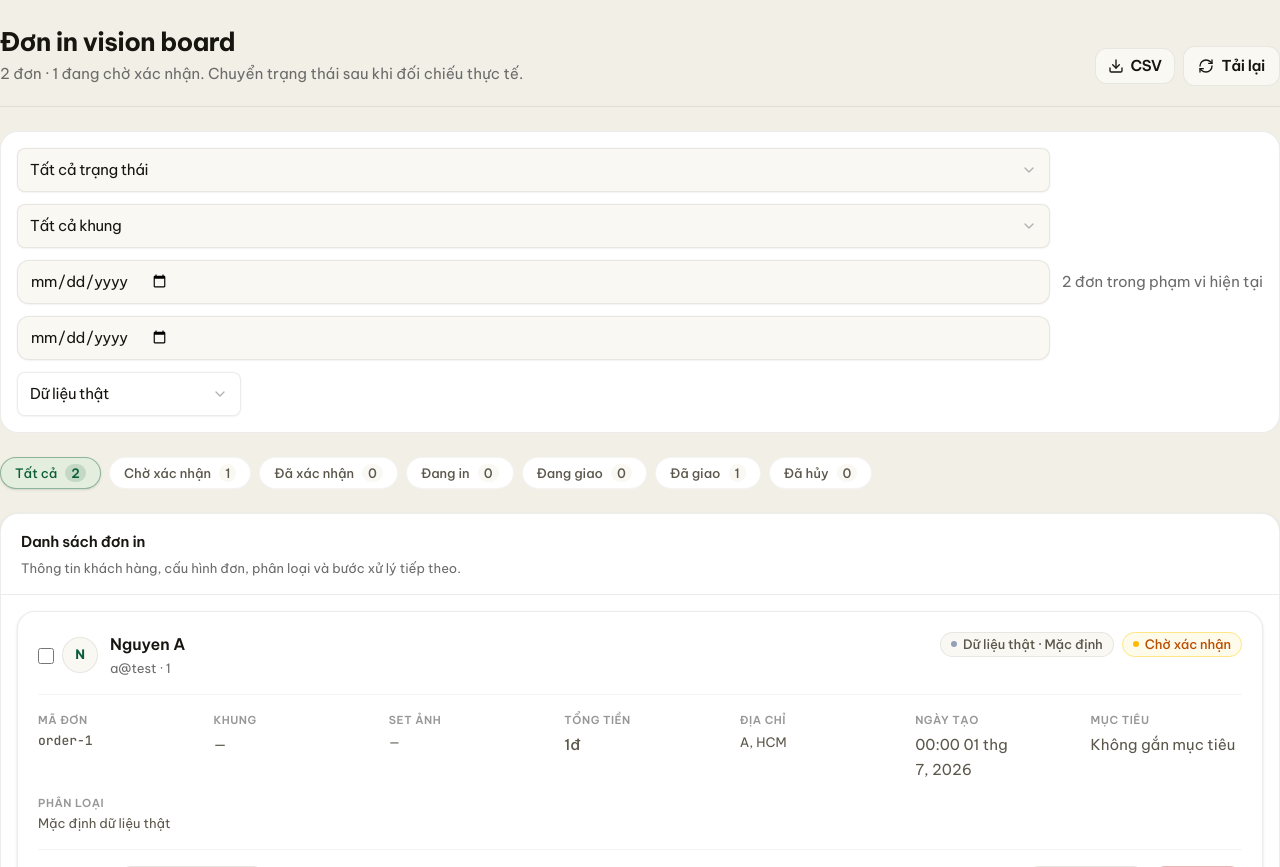
AdminOrdersPage server operational data › hides bulk controls until a row is selected
Expected: the text "Mặc định dữ liệu thật" is shown, x1=38 y1=814 x2=189 y2=833
Click the checkbox named "Chọn đơn order-1" at (46, 656), box x1=38 y1=648 x2=54 y2=664
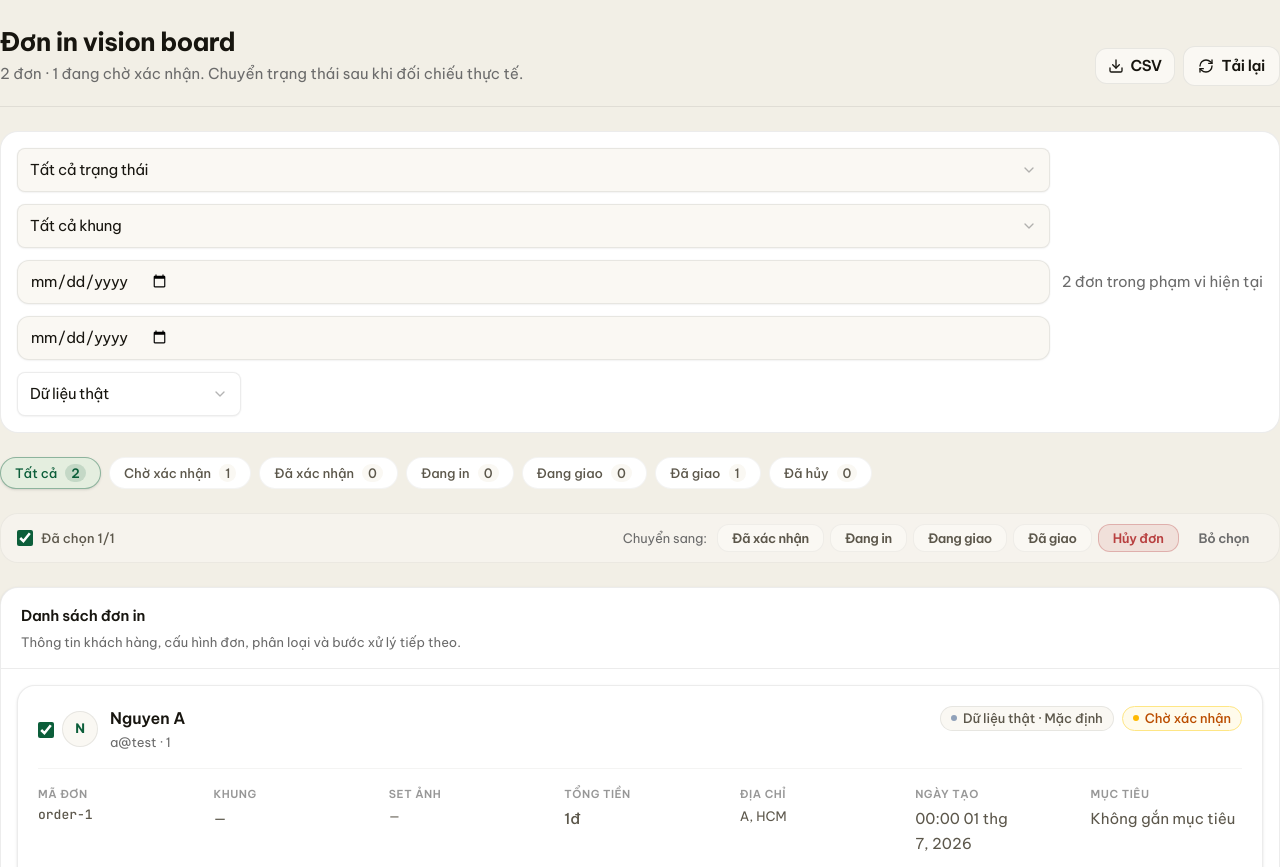
Now the text "Đã chọn 1/1" is shown, box x1=41 y1=529 x2=115 y2=548
Now the checkbox named "Chọn tất cả đơn trên trang" is shown, box x1=17 y1=530 x2=33 y2=546
